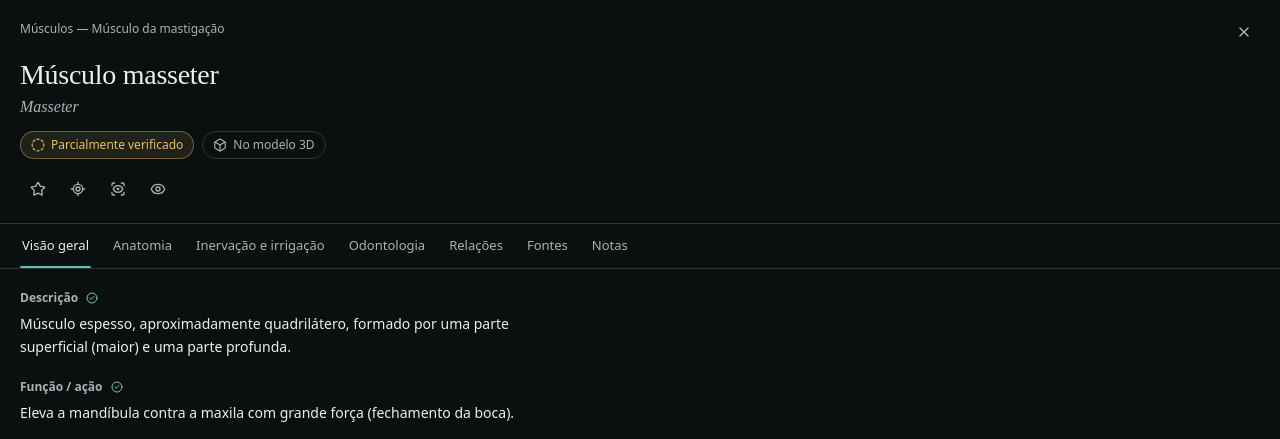
Test case: painel de detalhes › o botão de limpar remove a seleção e volta ao estado inicial
What coordinates should you click on to do the following:
click the button named "Limpar seleção"
I would click on:
 (1244, 32)
Its box is top-left (1228, 16), bottom-right (1260, 48).
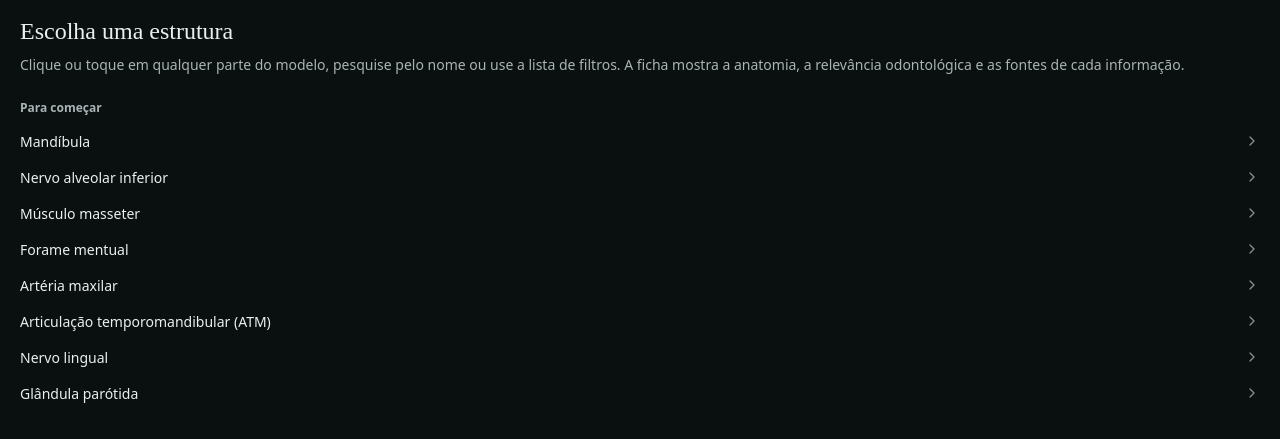
Expected: the text "Escolha uma estrutura" is shown, top-left (20, 18), bottom-right (233, 44)
